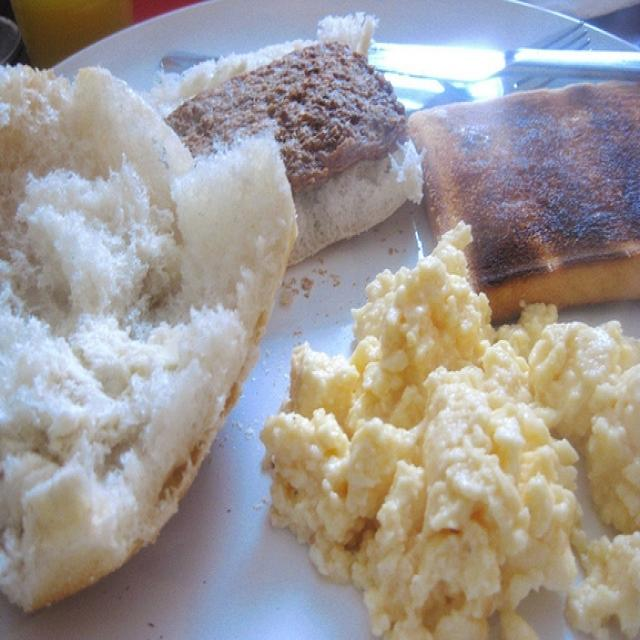鸡蛋料理: (255, 237, 631, 625)
